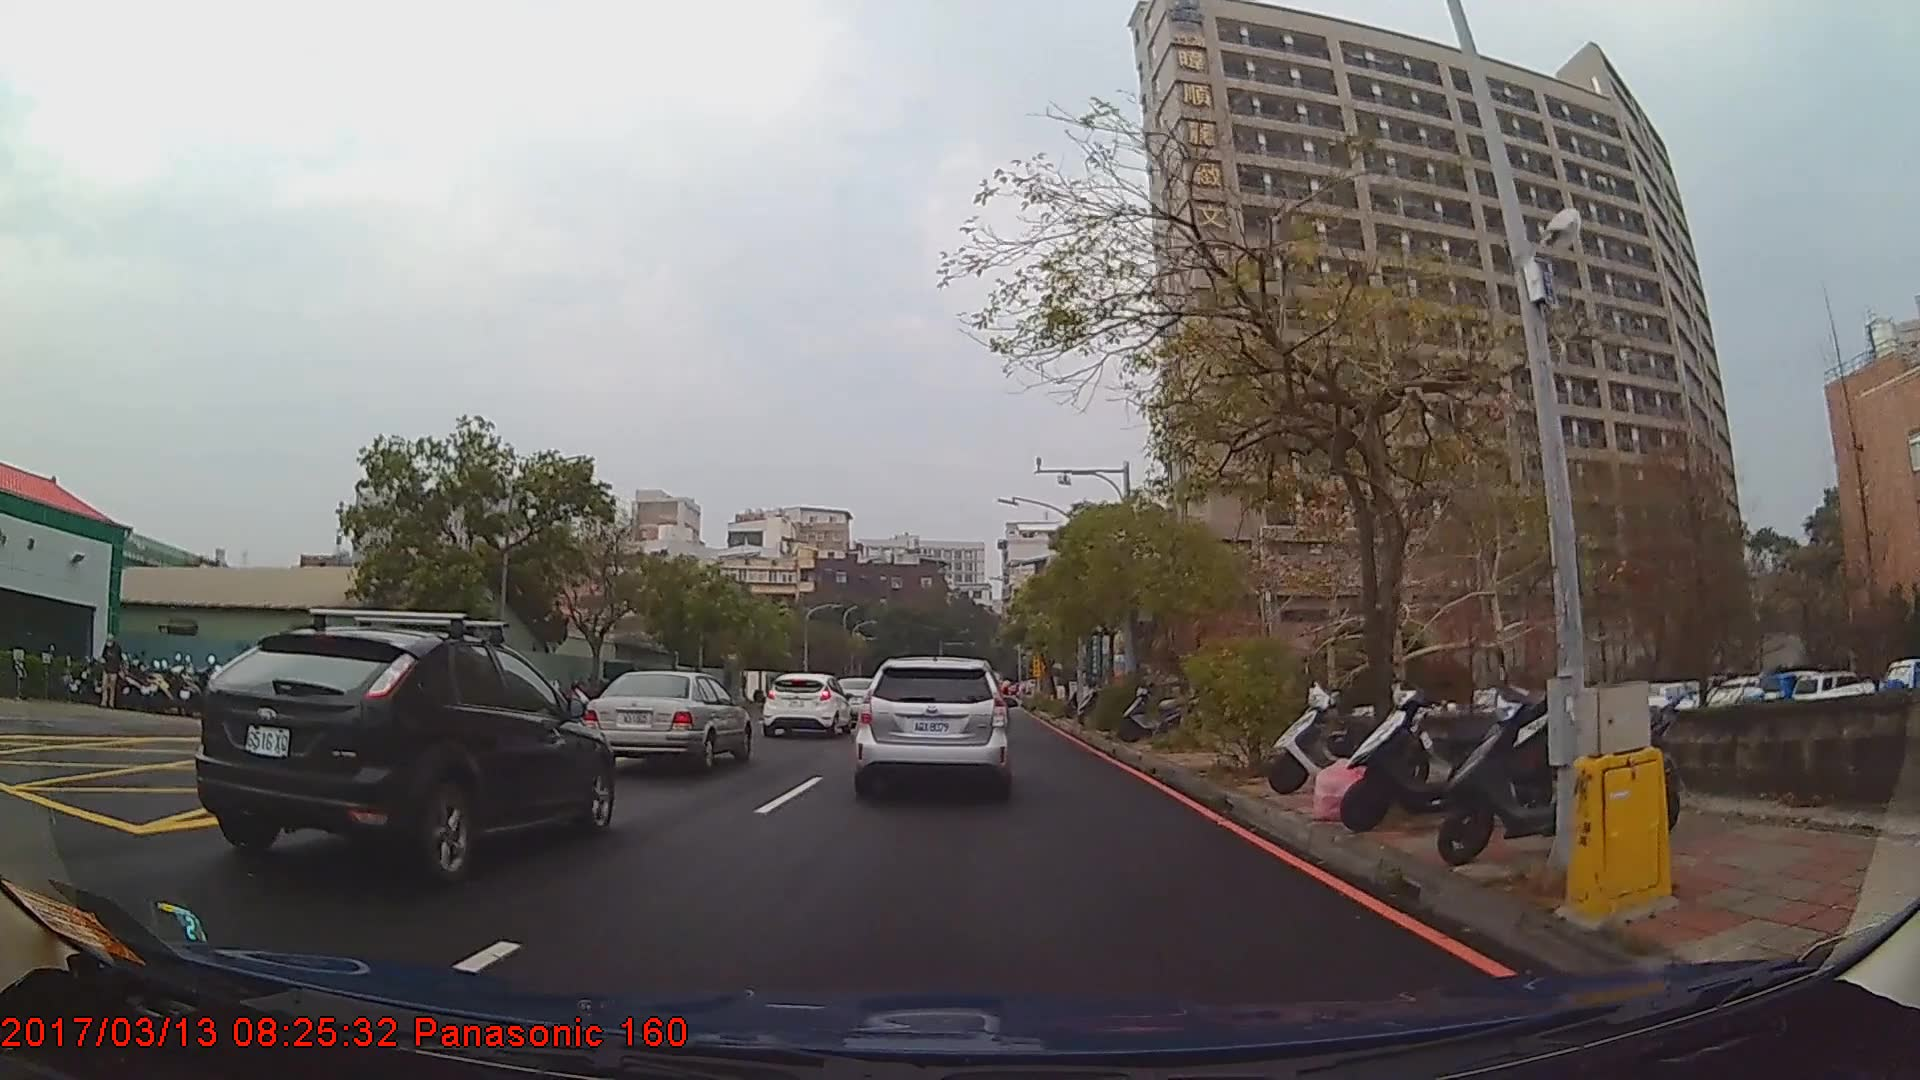pedestrian: (100, 635, 125, 711)
vehicle: (193, 623, 614, 882), (852, 653, 1008, 800), (579, 670, 749, 772), (761, 671, 854, 739)
